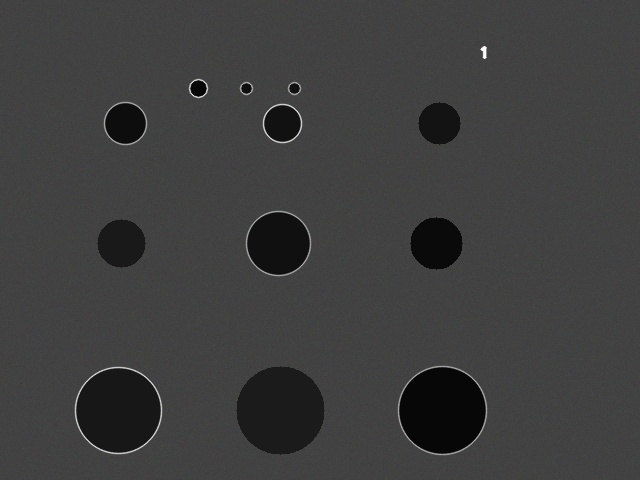hole: (236, 366, 324, 454), (398, 366, 486, 454), (75, 367, 161, 453), (246, 211, 310, 275), (410, 217, 462, 269), (97, 219, 145, 267), (104, 102, 146, 144), (418, 102, 460, 144), (263, 104, 301, 142), (189, 79, 207, 97), (240, 82, 252, 94), (288, 82, 300, 94)
